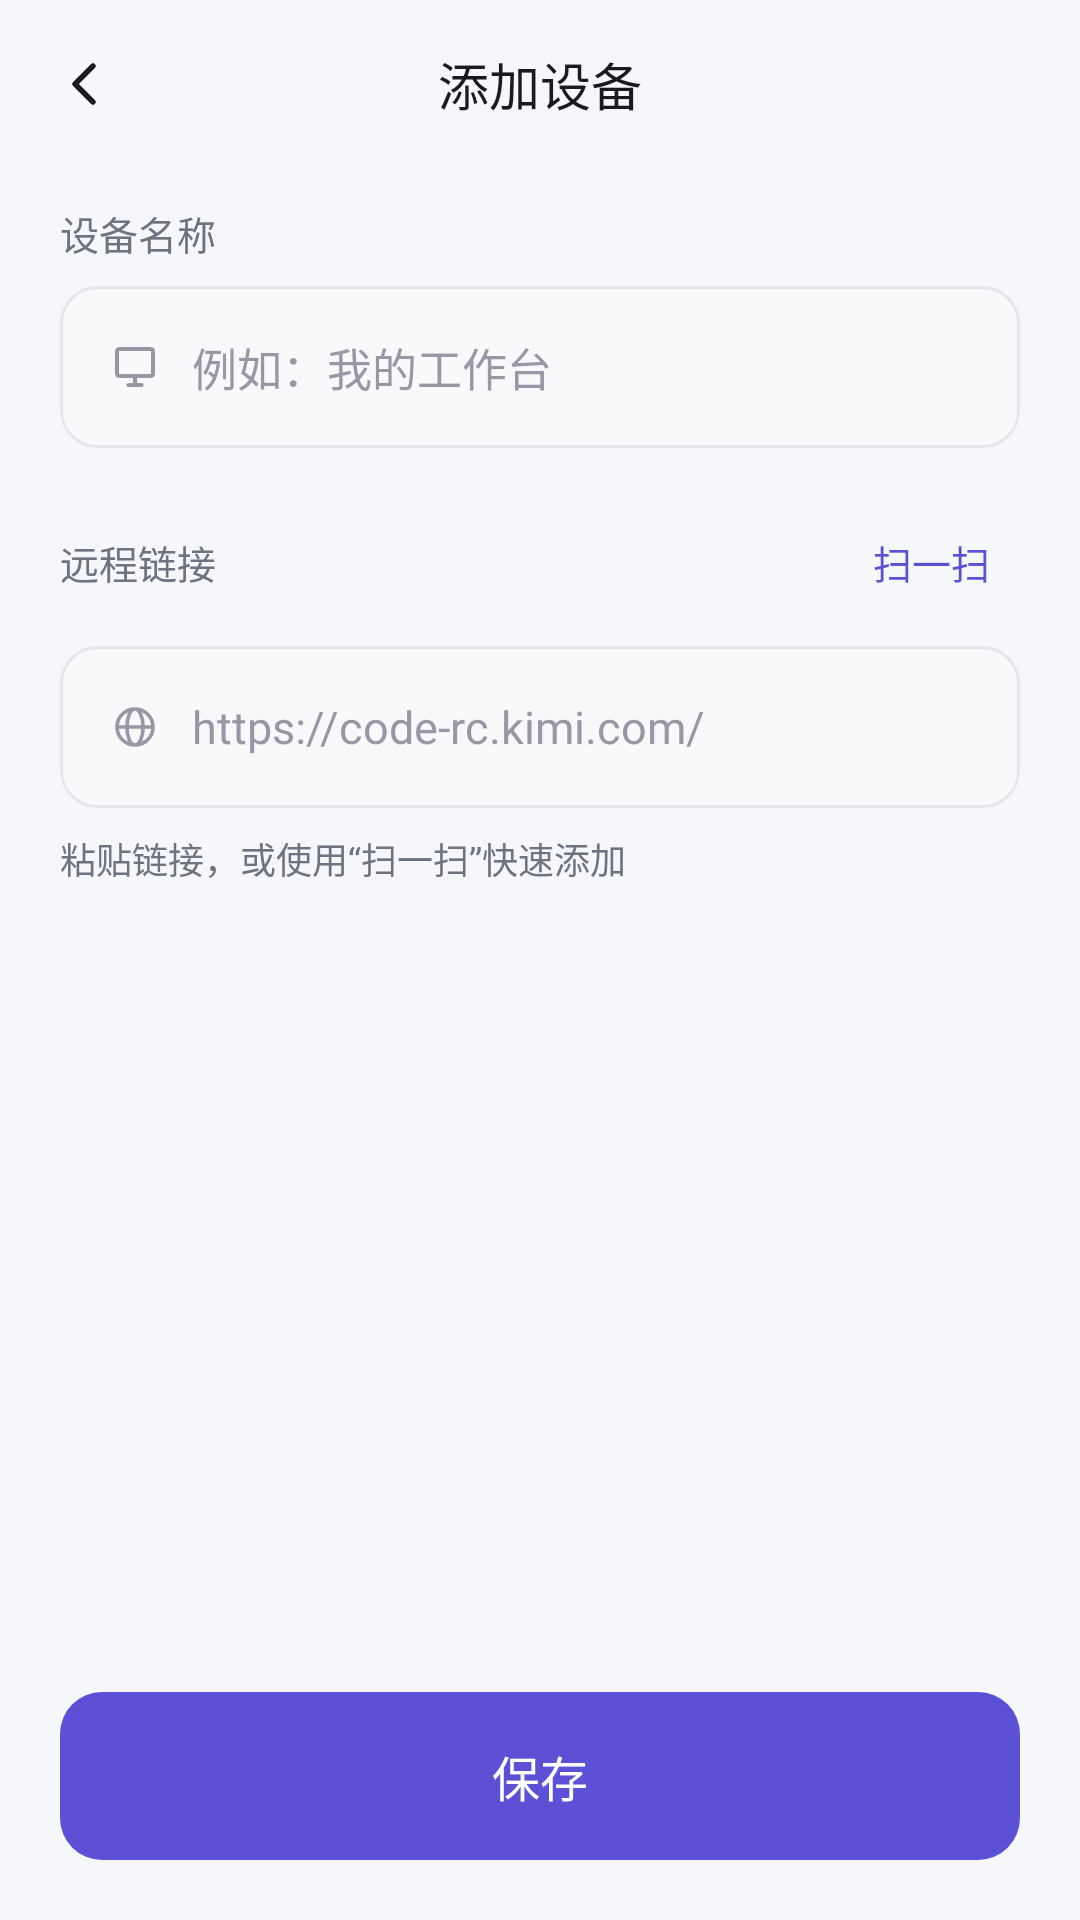

Icon bounding boxes for this 1080px x 1920px phone screenshot, format region(x1, y1, x2, y2):
返回: region(72, 63, 96, 105)
